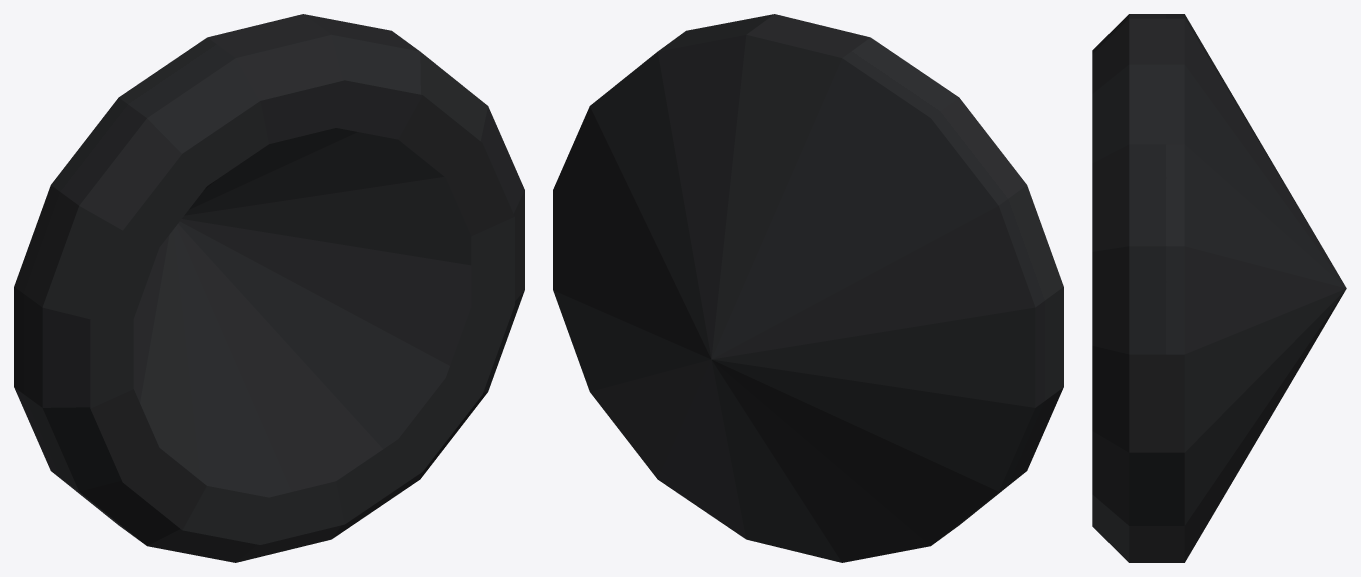
Rendered from decopole_calheights_cap_n.obj.
3 renders of one model, left to right at view 1: azimuth 30°, elevation 25°; view 2: azimuth 150°, elevation 25°; view 3: azimuth 270°, elevation 25°, orthographic. The views are drawn at different scales.
Parts seen in each view (by area): view 1: decopole_calheights_cap_n; view 2: decopole_calheights_cap_n; view 3: decopole_calheights_cap_n.
Boxes of the visible parts, x1,y1,x2,y2 form: decopole_calheights_cap_n: (14, 14, 524, 562); decopole_calheights_cap_n: (553, 14, 1063, 562); decopole_calheights_cap_n: (1092, 14, 1346, 562).
Size of the model in its own units: 0.3678 by 0.3678 by 0.1719.
